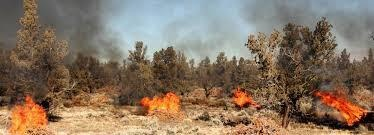fire: (314, 88, 370, 126), (0, 93, 50, 134), (138, 89, 182, 114), (230, 84, 257, 105)
